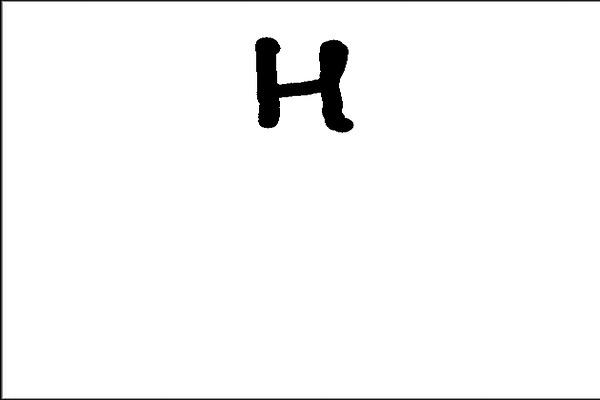H: (244, 29, 358, 137)
